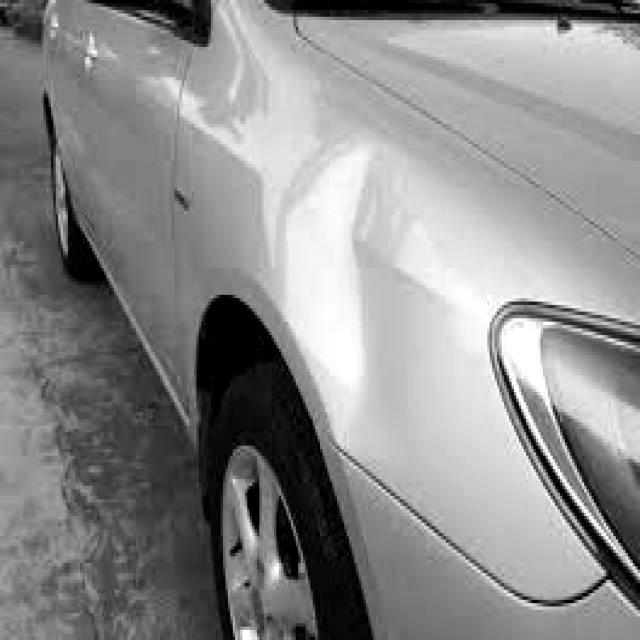fender-dent: (183, 54, 420, 540)
